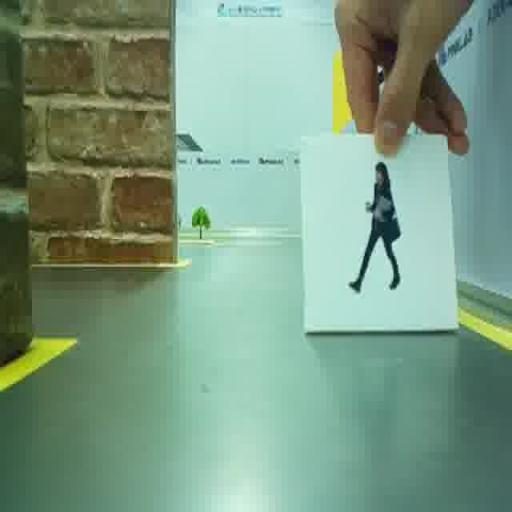human: (349, 162, 400, 291)
